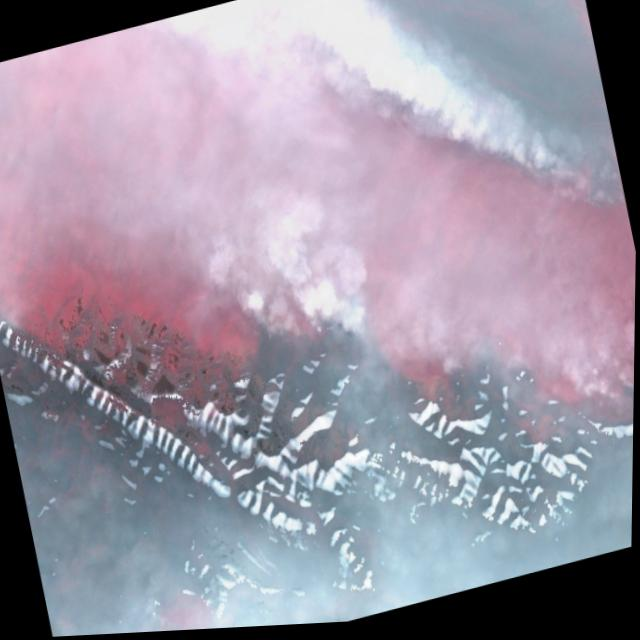fire: (339, 0, 631, 278), (239, 260, 388, 388), (545, 352, 636, 435)
